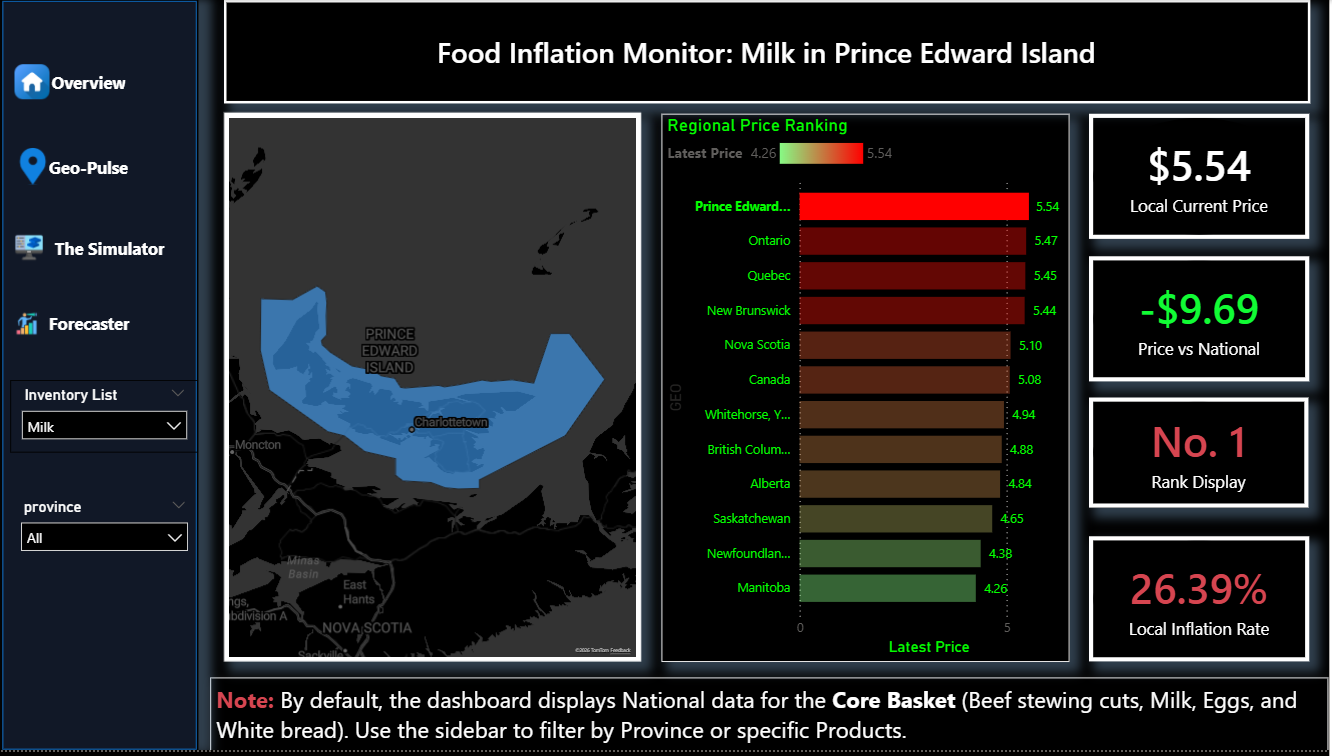

The dashboard page shown, as its layout file describes it:
{"tool":"powerbi","page":{"name":"Geo-Puls","canvas":[1280,720],"ordinal":1},"visuals":[{"type":"shape","box":[7.8,0,188.5,720],"z":0,"group":"g1"},{"type":"cardVisual","fields":{"Data":["Cleaned_Grocery_Data.Dynamic Title"]},"box":[220.7,0,1041.7,99.6],"z":0},{"type":"actionButton","box":[15.9,137.6,150,43.3],"z":1000,"group":"g1"},{"type":"textbox","box":[207.8,650,1072.2,70],"z":1000},{"type":"azureMap","fields":{"Category":["Cleaned_Grocery_Data.GEO"]},"box":[220.7,108.2,399.6,526.6],"z":2000},{"type":"actionButton","box":[15.9,57.7,150,41.8],"z":3000,"group":"g1"},{"type":"cardVisual","fields":{"Data":["Cleaned_Grocery_Data.Local Current Price"]},"box":[1050,108.6,211.4,120],"z":3000},{"type":"cardVisual","fields":{"Data":["Cleaned_Grocery_Data.Price vs National"]},"box":[1050,245.7,211.4,120],"z":4000},{"type":"cardVisual","fields":{"Data":["Cleaned_Grocery_Data.Rank Display"]},"box":[1050.3,380.9,210.6,105.3],"z":5000},{"type":"actionButton","box":[15.9,219,190.4,36.1],"z":6000,"group":"g1"},{"type":"cardVisual","fields":{"Data":["Cleaned_Grocery_Data.Local Inflation Rate"]},"box":[1050,514.3,211.4,120],"z":6000},{"type":"clusteredBarChart","title":"Regional Price Ranking","fields":{"Y":["Cleaned_Grocery_Data.Latest Price"],"Category":["Cleaned_Grocery_Data.GEO"]},"box":[640,108.6,391.4,525.7],"z":7000},{"type":"group","id":"g1","title":"Group 1","box":[7.8,0,198.5,720],"z":8000},{"type":"actionButton","box":[15.9,293.2,151.5,33.2],"z":9000,"group":"g1"},{"type":"slicer","fields":{"Values":["Cleaned_Grocery_Data.GEO"]},"box":[15.9,471.8,180.3,69.3],"z":10000,"group":"g1"},{"type":"slicer","fields":{"Values":["Cleaned_Grocery_Data.Product_Name"]},"box":[15.9,364.4,180.3,69.3],"z":11000,"group":"g1"}]}

Visuals, with their boxes on the page's 1280x720 design canvas (x1, y1, x2, y2). These are canvas units, not pixel positions in the 1332x756 screenshot, which may show the page scaled, cropped or inside an application window:
shape: left=8, top=0, right=196, bottom=720
cardVisual - Cleaned_Grocery_Data.Dynamic Title: left=221, top=0, right=1262, bottom=100
actionButton: left=16, top=138, right=166, bottom=181
textbox: left=208, top=650, right=1280, bottom=720
azureMap - Cleaned_Grocery_Data.GEO: left=221, top=108, right=620, bottom=635
actionButton: left=16, top=58, right=166, bottom=100
cardVisual - Cleaned_Grocery_Data.Local Current Price: left=1050, top=109, right=1261, bottom=229
cardVisual - Cleaned_Grocery_Data.Price vs National: left=1050, top=246, right=1261, bottom=366
cardVisual - Cleaned_Grocery_Data.Rank Display: left=1050, top=381, right=1261, bottom=486
actionButton: left=16, top=219, right=206, bottom=255
cardVisual - Cleaned_Grocery_Data.Local Inflation Rate: left=1050, top=514, right=1261, bottom=634
"Regional Price Ranking" clusteredBarChart: left=640, top=109, right=1031, bottom=634
"Group 1" group: left=8, top=0, right=206, bottom=720
actionButton: left=16, top=293, right=167, bottom=326
slicer - Cleaned_Grocery_Data.GEO: left=16, top=472, right=196, bottom=541
slicer - Cleaned_Grocery_Data.Product_Name: left=16, top=364, right=196, bottom=434
